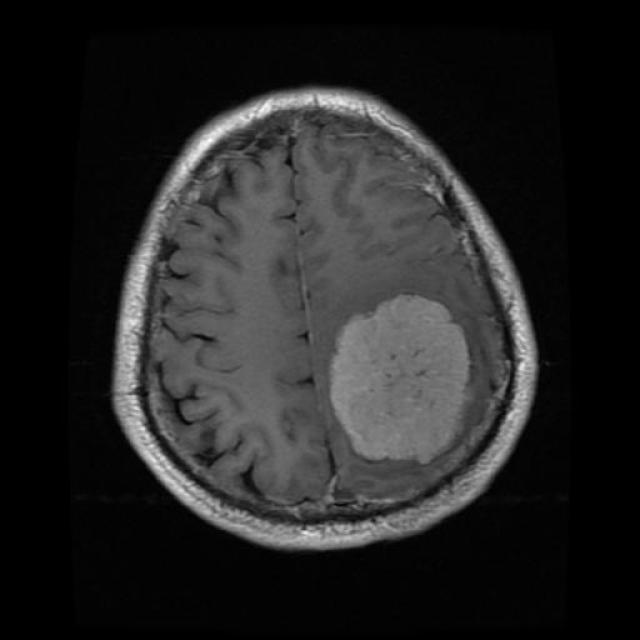meningioma: (329, 294, 470, 465)
